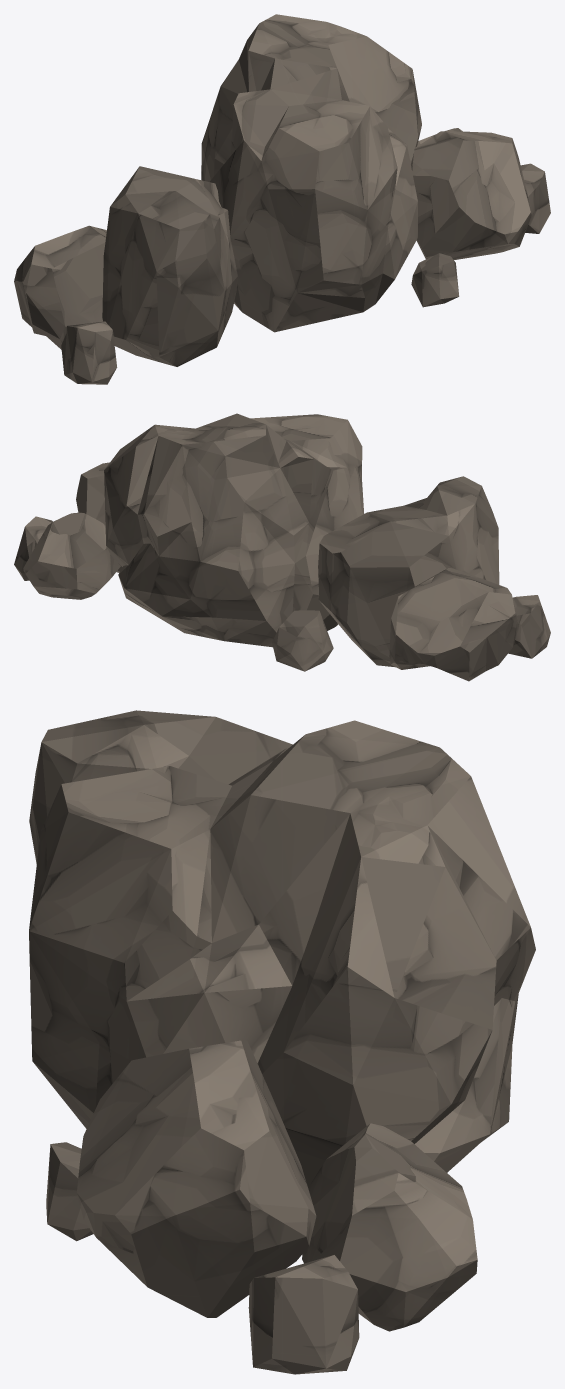
Rendered from synty-rock-pile-05.gltf.
The picture shows the model from 3 angles, top to bottom: view 1: azimuth 30°, elevation 25°; view 2: azimuth 150°, elevation 25°; view 3: azimuth 270°, elevation 25°; orthographic projection. The views are drawn at different scales.
Visible parts, largest first — view 1: SM_Rock_Pile_05; view 2: SM_Rock_Pile_05; view 3: SM_Rock_Pile_05.
Part boxes in pixels (box(x1,y1,x2,y2)): SM_Rock_Pile_05: box(14, 14, 550, 384); SM_Rock_Pile_05: box(14, 413, 550, 681); SM_Rock_Pile_05: box(29, 710, 535, 1374).
Size of the model in its own units: 10.37 by 4.36 by 4.68.
Materials: 1 (1 with a texture image).
